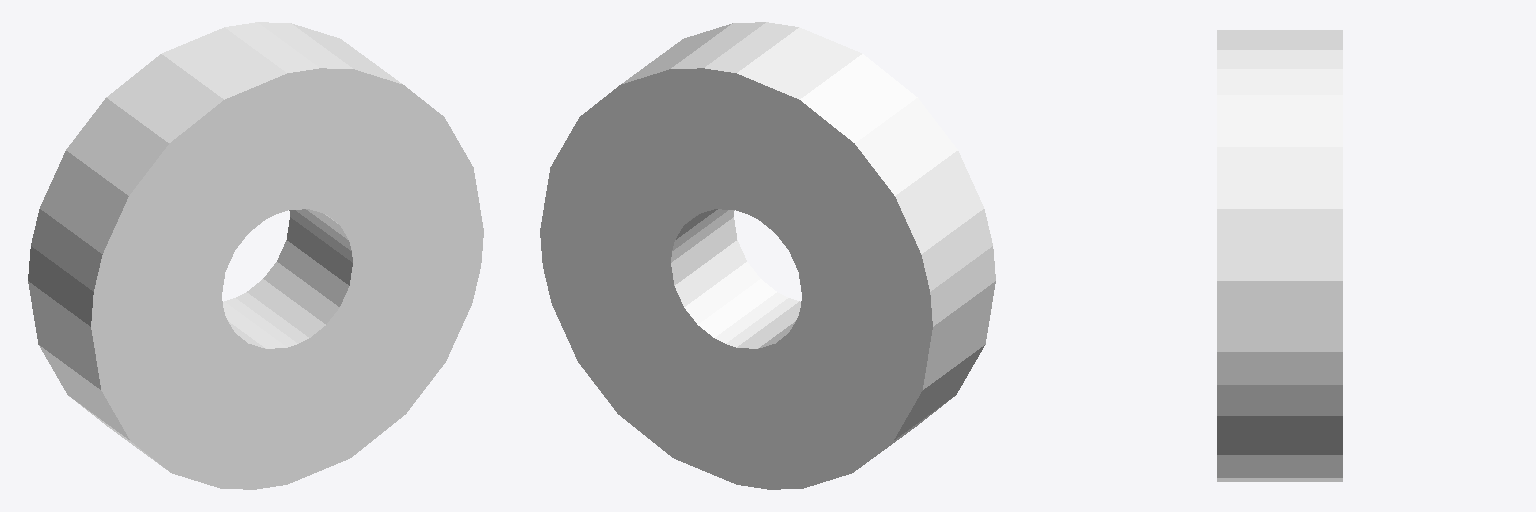
File: cad-Cut004.obj
3 views of the same model, side by side, from view 1: azimuth 30°, elevation 25°; view 2: azimuth 150°, elevation 25°; view 3: azimuth 270°, elevation 25° (orthographic).
Parts seen in each view (by area): view 1: Cut004; view 2: Cut004; view 3: Cut004.
Part boxes in pixels (bbox=[...]): Cut004: bbox=[28, 22, 483, 489]; Cut004: bbox=[540, 22, 995, 489]; Cut004: bbox=[1217, 30, 1342, 481].
Size of the model in its own units: 9 by 9 by 2.5.